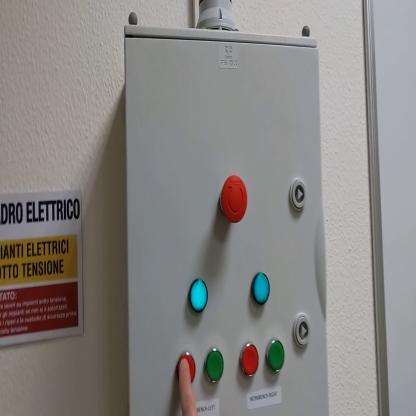hand: (176, 344, 197, 403)
left green button: (207, 347, 226, 384)
left red button: (176, 348, 195, 382)
right green button: (268, 339, 286, 375)
right red button: (242, 342, 261, 379)
